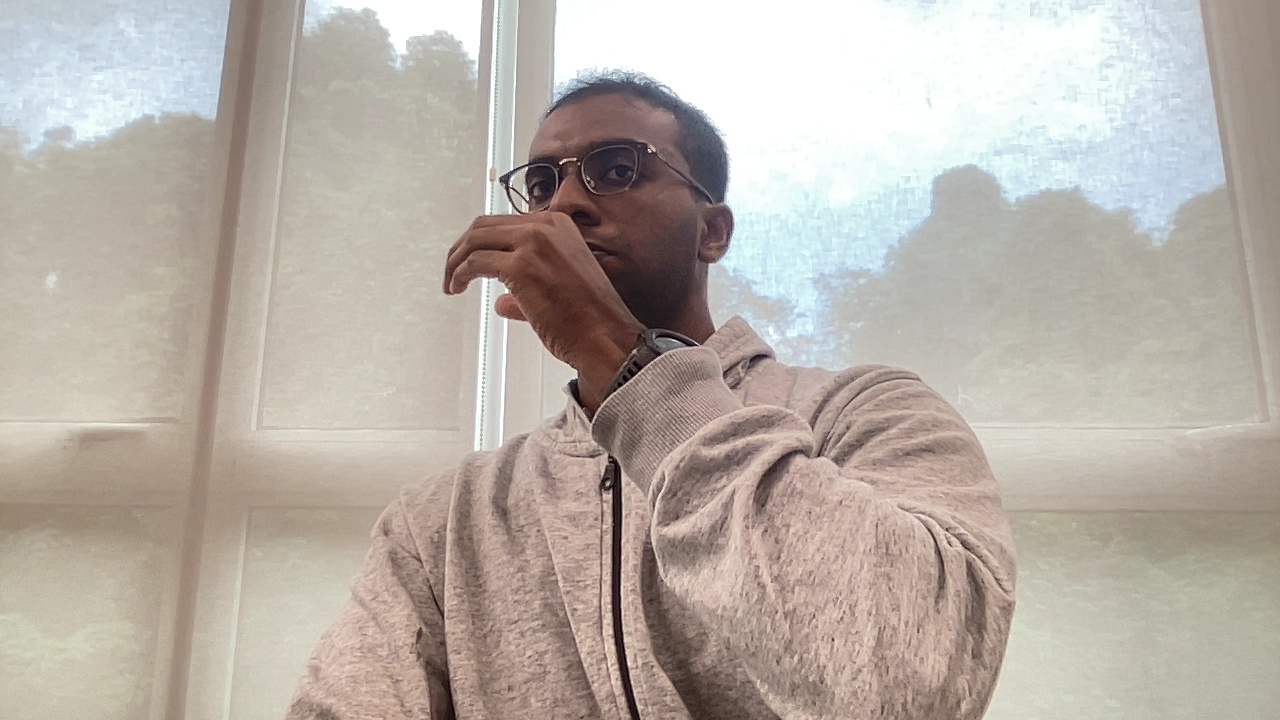drink: (435, 195, 628, 347)
